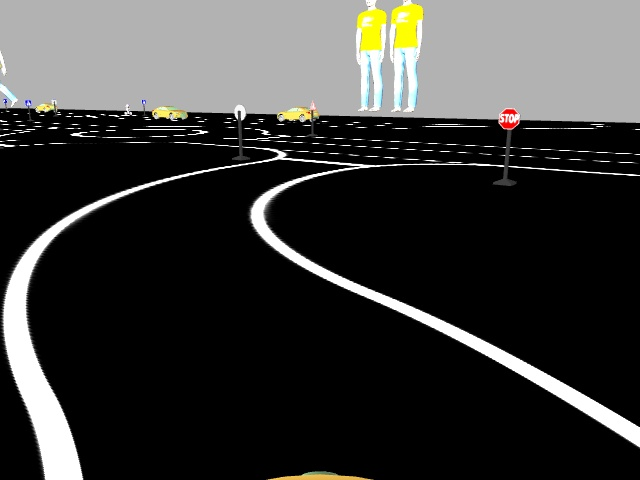Stop: (497, 106, 519, 130)
